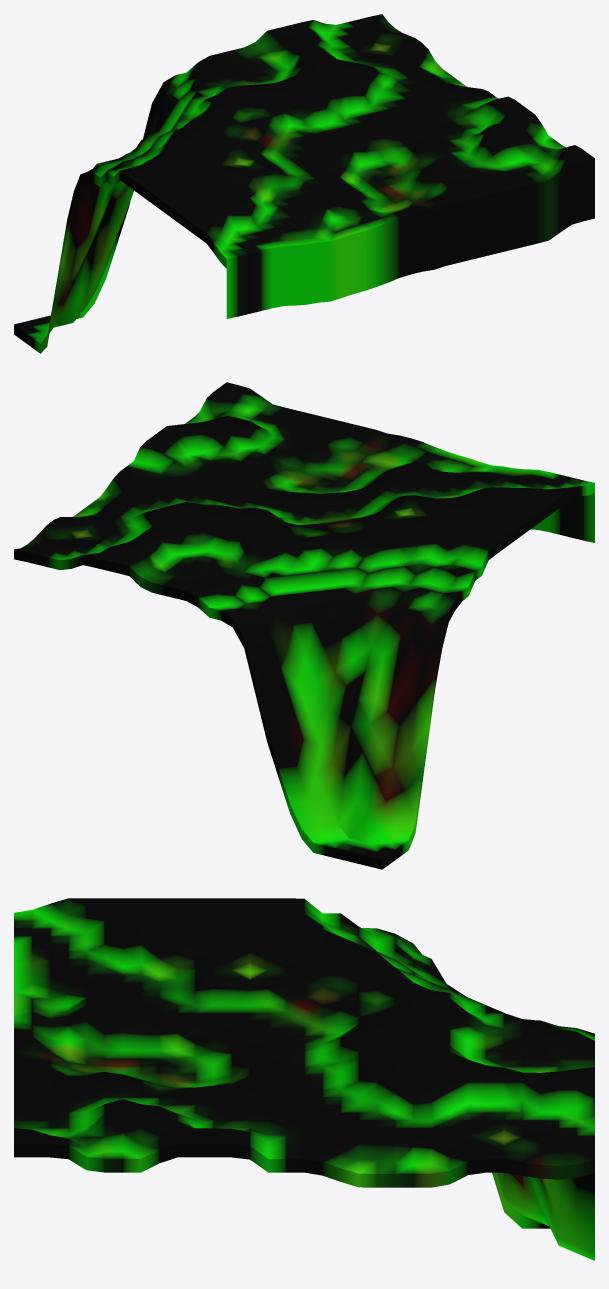
Rendered from Terrain_07_01.fbx.
3 views of the same model, one above another, from view 1: azimuth 30°, elevation 25°; view 2: azimuth 150°, elevation 25°; view 3: azimuth 270°, elevation 25° (orthographic). The views are drawn at different scales.
Visible parts, largest first — view 1: Terrain_07_01_LOD0; view 2: Terrain_07_01_LOD0; view 3: Terrain_07_01_LOD0.
Boxes of the visible parts, x1,y1,x2,y2 form: Terrain_07_01_LOD0: [14, 14, 594, 353]; Terrain_07_01_LOD0: [14, 382, 594, 869]; Terrain_07_01_LOD0: [14, 898, 594, 1260].
Size of what is drawn, in the model's own units: 384 by 241 by 384.
